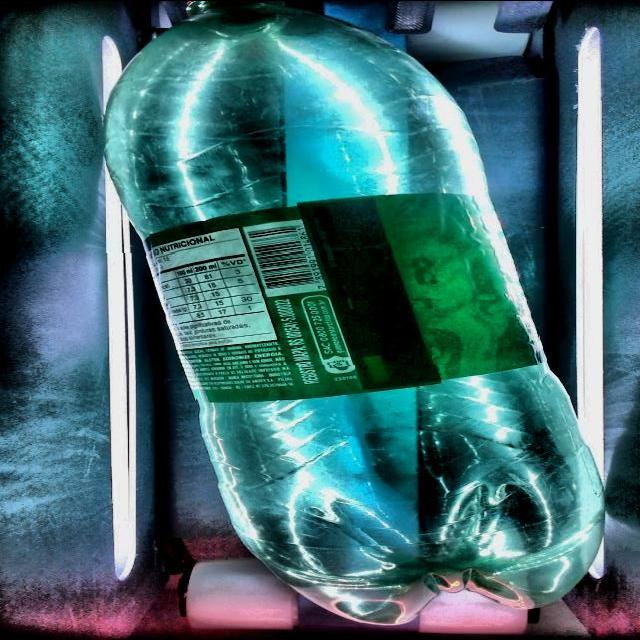bottom: (196, 364, 603, 624)
code: (244, 219, 327, 295)
label: (146, 193, 539, 402)
neck: (106, 0, 506, 252)
